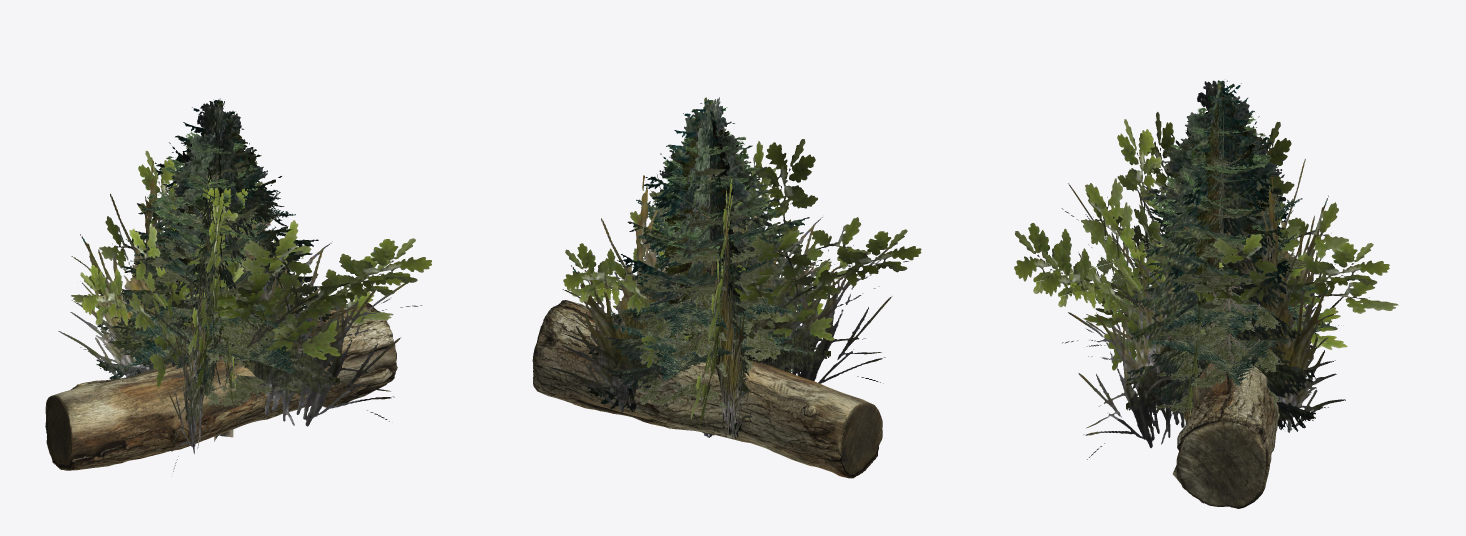
Rendered from kit.glb.
3 renders of one model, left to right at view 1: azimuth 30°, elevation 25°; view 2: azimuth 150°, elevation 25°; view 3: azimuth 270°, elevation 25°, orthographic. The views are drawn at different scales.
Visible parts, largest first — view 1: bush, log, fir, tuft, spruce, slim2, slim, pine; view 2: log, fir, bush, tuft, spruce, slim, slim2, pine; view 3: bush, fir, tuft, spruce, log, slim2, pine, slim, pine2.
Boxes of the visible parts, <box> form: bush: <box>71,151,431,404</box>; log: <box>45,302,397,470</box>; fir: <box>96,98,339,441</box>; tuft: <box>58,161,422,471</box>; spruce: <box>108,113,335,399</box>; slim2: <box>147,110,267,358</box>; slim: <box>174,101,266,435</box>; pine: <box>163,116,273,433</box>; log: <box>532,300,882,478</box>; fir: <box>587,99,830,438</box>; bush: <box>563,97,921,427</box>; tuft: <box>549,174,908,438</box>; spruce: <box>601,113,814,397</box>; slim: <box>660,97,751,437</box>; slim2: <box>658,112,776,306</box>; pine: <box>661,113,762,434</box>; bush: <box>1014,112,1398,422</box>; fir: <box>1126,80,1315,431</box>; tuft: <box>1061,131,1345,459</box>; spruce: <box>1122,97,1338,405</box>; log: <box>1172,361,1279,508</box>; slim2: <box>1143,95,1282,262</box>; pine: <box>1171,92,1273,327</box>; slim: <box>1169,80,1286,284</box>; pine2: <box>1182,103,1257,340</box>.
Bounding box in the file's own units: 1.27 × 1 × 1.17.
10 materials, 10 textured.
